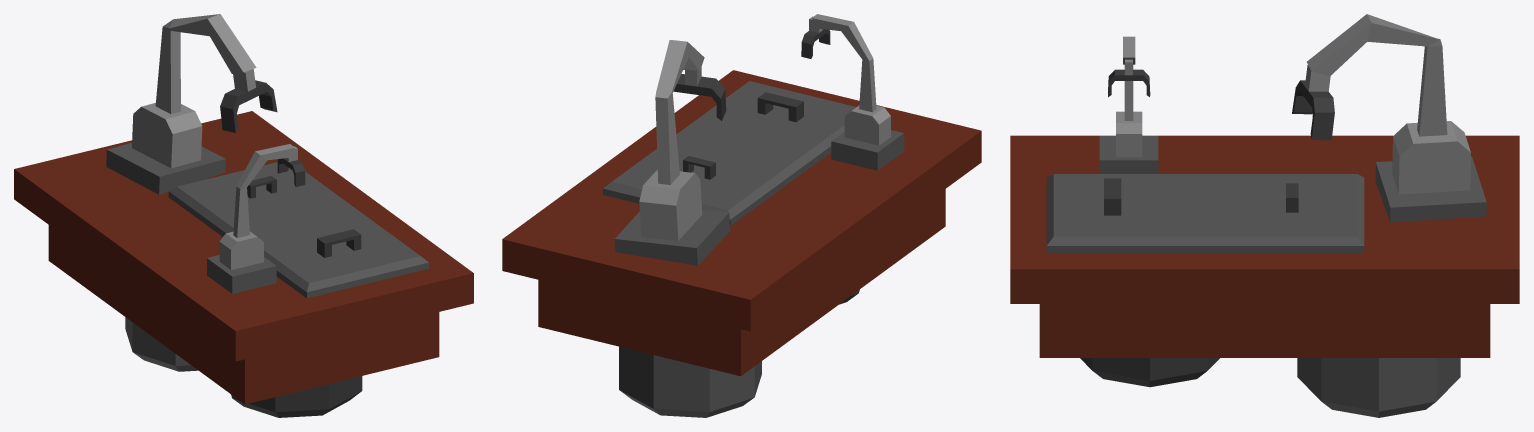
File: upgrade_bench.glb
The picture shows the model from 3 angles, left to right: view 1: azimuth 30°, elevation 25°; view 2: azimuth 150°, elevation 25°; view 3: azimuth 270°, elevation 25°; orthographic projection. The views are drawn at different scales.
Parts seen in each view (by area): view 1: Cube, Cube.002, Cube.001, Beam; view 2: Cube, Cube.002, Cube.001, Beam, Beam.001; view 3: Cube, Cube.002, Cube.001, Beam.
Part boxes in pixels (x1=…): Cube: x1=14, y1=111, x2=473, y2=417; Cube.002: x1=106, y1=14, x2=277, y2=194; Cube.001: x1=207, y1=144, x2=305, y2=293; Beam: x1=317, y1=229, x2=361, y2=257; Cube: x1=502, y1=70, x2=981, y2=417; Cube.002: x1=614, y1=40, x2=730, y2=265; Cube.001: x1=801, y1=14, x2=904, y2=170; Beam: x1=757, y1=92, x2=803, y2=122; Beam.001: x1=683, y1=156, x2=715, y2=179; Cube: x1=1010, y1=135, x2=1519, y2=417; Cube.002: x1=1292, y1=14, x2=1486, y2=222; Cube.001: x1=1099, y1=36, x2=1158, y2=173; Beam: x1=1104, y1=178, x2=1121, y2=215.
Bounding box in the file's own units: 2 × 2.66 × 3.22.
